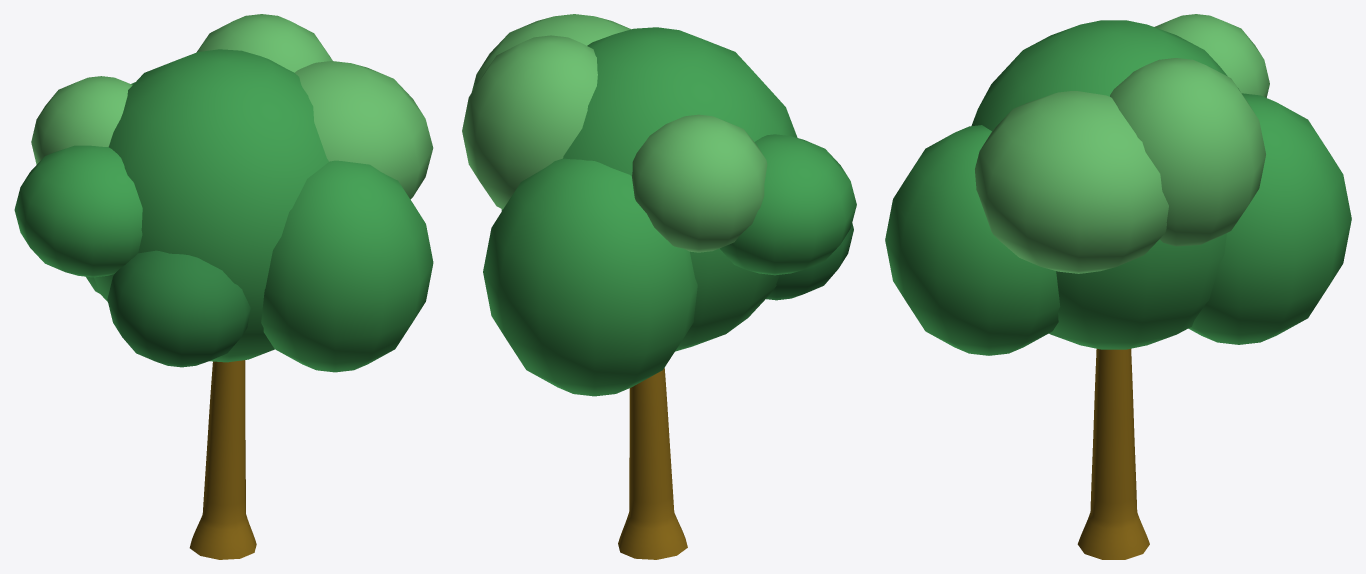
File: broadleaf_0.glb
The picture shows the model from 3 angles, left to right: view 1: azimuth 30°, elevation 25°; view 2: azimuth 150°, elevation 25°; view 3: azimuth 270°, elevation 25°; orthographic projection. The views are drawn at different scales.
Visible parts, largest first — view 1: crown, trunk; view 2: crown, trunk; view 3: crown, trunk.
Boxes of the visible parts, left/top/right/bottom form: crown: left=14, top=14, right=433, bottom=372; trunk: left=189, top=360, right=256, bottom=559; crown: left=462, top=14, right=856, bottom=396; trunk: left=618, top=368, right=687, bottom=559; crown: left=885, top=14, right=1351, bottom=355; trunk: left=1077, top=348, right=1149, bottom=559.
Bounding box in the file's own units: 2.03 × 2.55 × 2.1.
